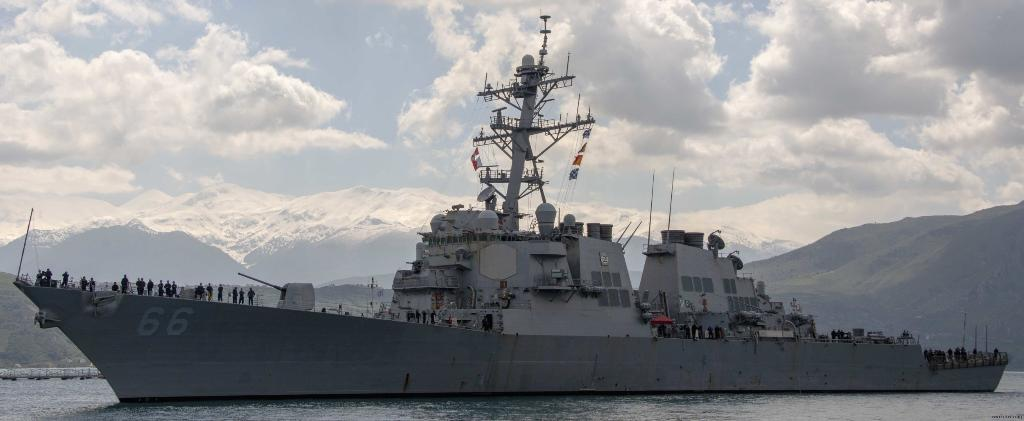Warship: (10, 12, 1012, 398)
